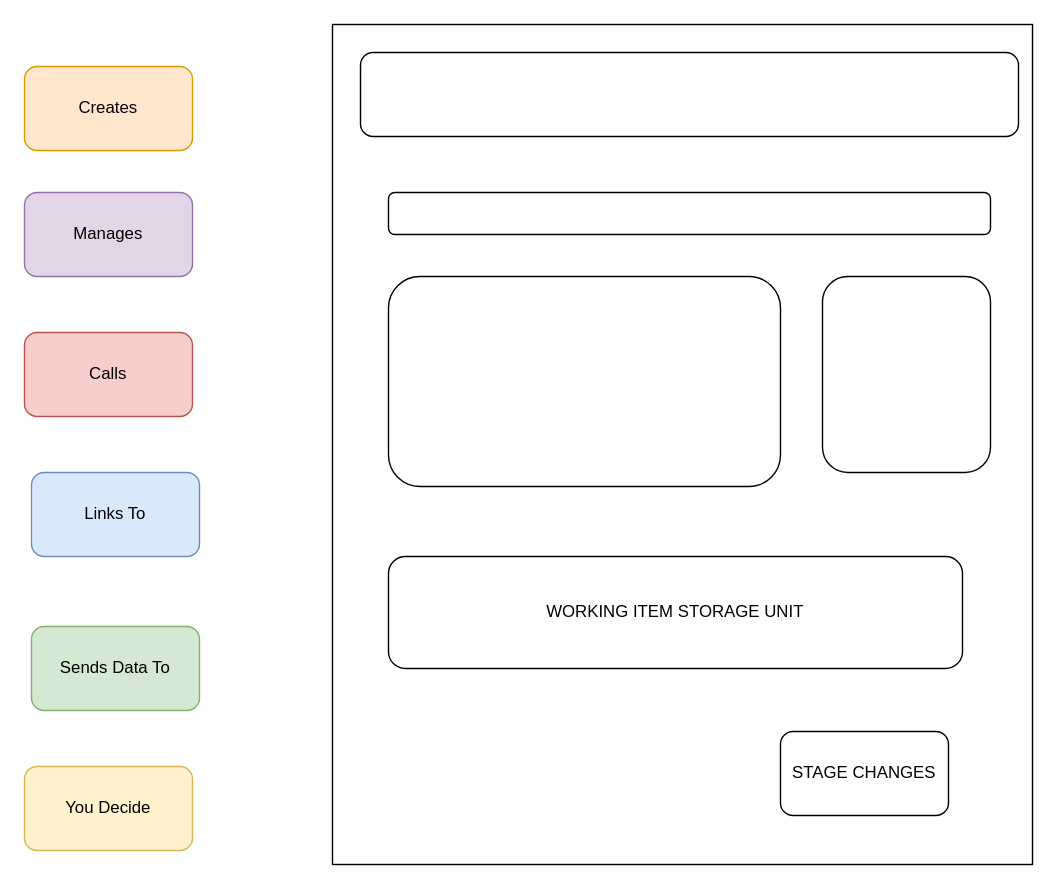
Image size: 1057x889. Some labels were removed from this diagram. The shapes that lost their labels are listed below. From the top down, each one's centre as x and y in pixels, then its label:
At [688,93]: "DASHBOARD".
At [688,212]: "SEARCH ITEMS".
At [583,380]: "WORKING ITEM NAME".
At [905,373]: "QUANTITY (POSITIVE OR NEGATIVE)".
